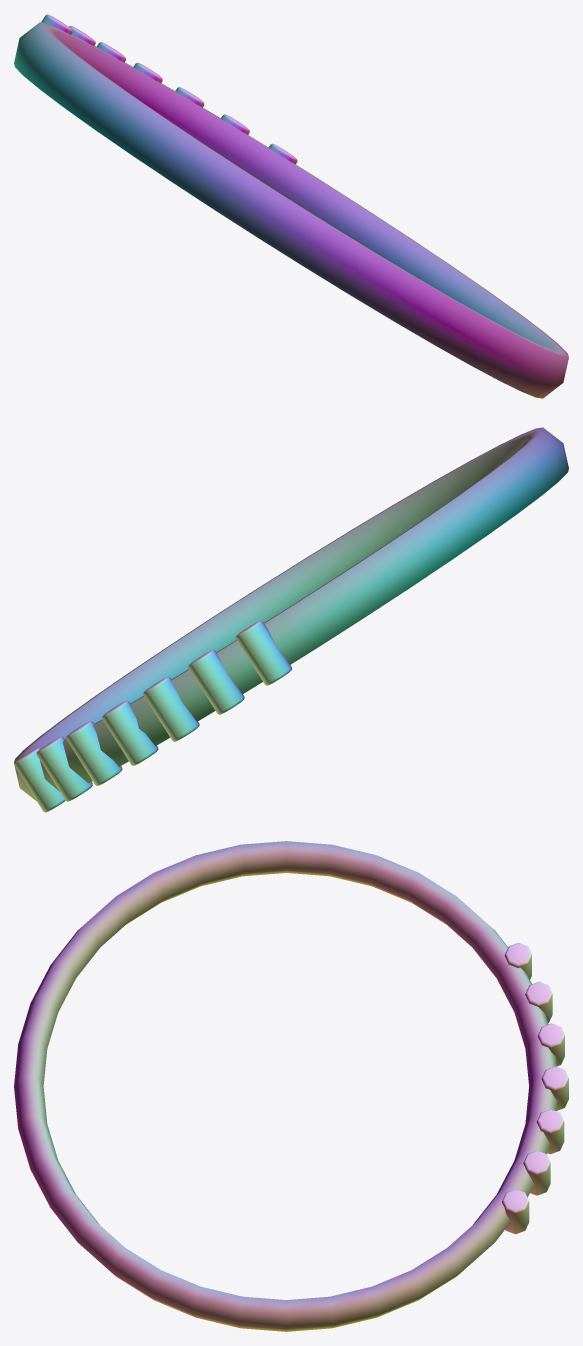
File: acc_bando.glb
3 renders of one model, top to bottom at view 1: azimuth 30°, elevation 25°; view 2: azimuth 150°, elevation 25°; view 3: azimuth 270°, elevation 25°, orthographic. The views are drawn at different scales.
Parts seen in each view (by area): view 1: bando; view 2: bando; view 3: bando.
Part boxes in pixels (<box>): bando: <box>14,14,568,398</box>; bando: <box>14,427,568,812</box>; bando: <box>14,841,568,1331</box>.
Bounding box in the file's own units: 0.1943 × 0.1573 × 0.2435.
